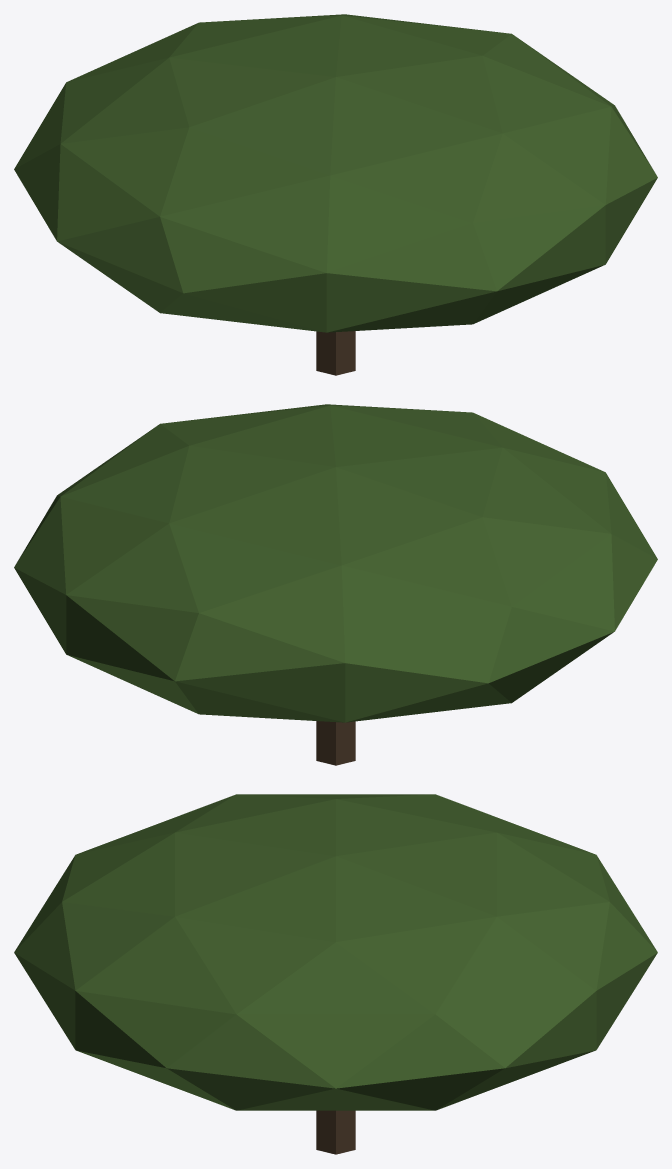
Rendered from trad_lov.glb.
The picture shows the model from 3 angles, top to bottom: view 1: azimuth 30°, elevation 25°; view 2: azimuth 150°, elevation 25°; view 3: azimuth 270°, elevation 25°; orthographic projection.
Visible parts, largest first — view 1: geometry_0; view 2: geometry_0; view 3: geometry_0.
Boxes of the visible parts, x1,y1,x2,y2 form: geometry_0: (14, 14, 657, 375); geometry_0: (14, 404, 657, 765); geometry_0: (14, 794, 657, 1154).
Bounding box in the file's own units: 2 × 0.99 × 2.
